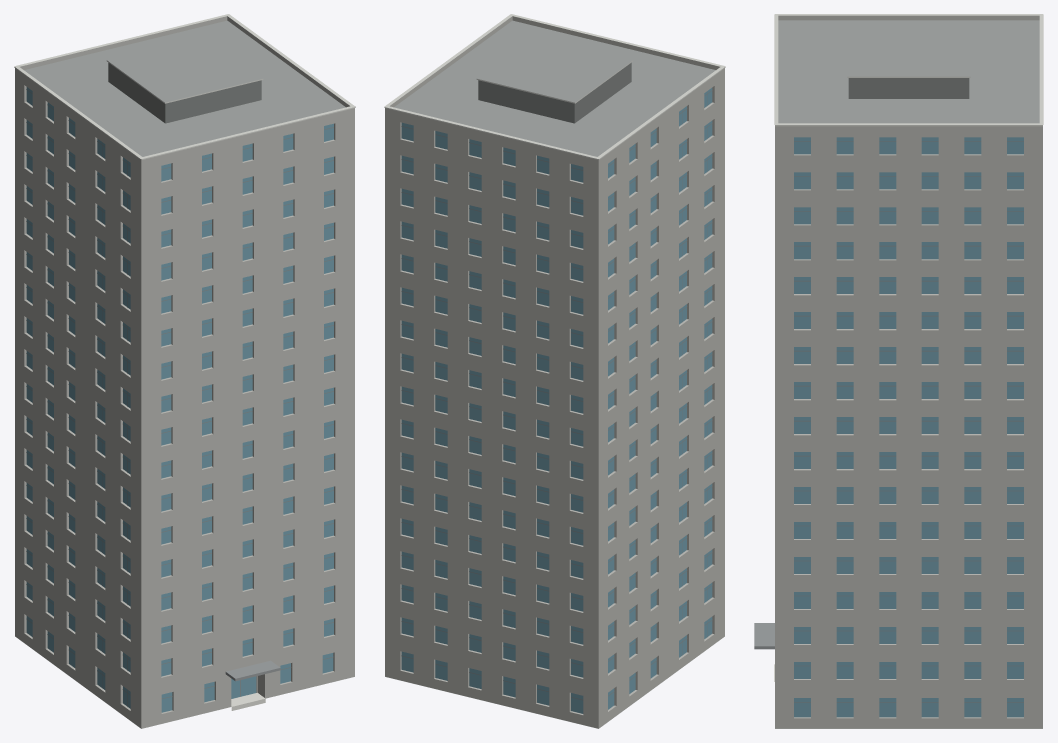
3 views of the same model, side by side, from view 1: azimuth 30°, elevation 25°; view 2: azimuth 150°, elevation 25°; view 3: azimuth 270°, elevation 25° (orthographic). The views are drawn at different scales.
Parts seen in each view (by area): view 1: unist-batch-b305__parapet, b305__glass, b305__trim, b305__frame, b305__canopy; view 2: unist-batch-b305__parapet, b305__glass, b305__frame, b305__trim; view 3: unist-batch-b305__parapet, b305__glass, b305__frame, b305__trim, b305__canopy.
Boxes of the visible parts, left/top/right/bottom form: unist-batch-b305__parapet: left=15, top=16, right=354, bottom=728; b305__glass: left=26, top=87, right=333, bottom=712; b305__trim: left=14, top=14, right=355, bottom=159; b305__frame: left=26, top=89, right=333, bottom=706; b305__canopy: left=225, top=660, right=280, bottom=681; unist-batch-b305__parapet: left=385, top=16, right=724, bottom=728; b305__glass: left=401, top=88, right=712, bottom=713; b305__frame: left=401, top=90, right=712, bottom=700; b305__trim: left=384, top=14, right=725, bottom=159; unist-batch-b305__parapet: left=775, top=15, right=1042, bottom=728; b305__glass: left=794, top=137, right=1023, bottom=717; b305__frame: left=794, top=141, right=1023, bottom=702; b305__trim: left=774, top=14, right=1043, bottom=126; b305__canopy: left=754, top=623, right=774, bottom=649.
Bounding box in the file's own units: 22.83 × 60 × 25.13.
